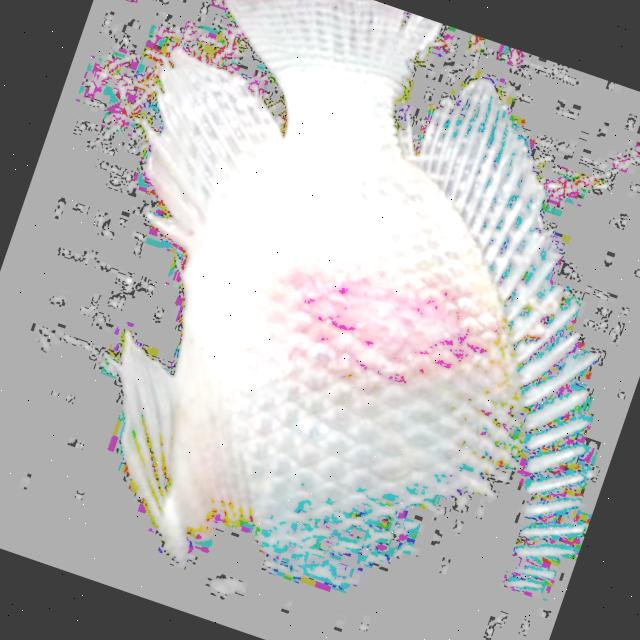Tilapia Lake Virus -TiLV-: (117, 0, 595, 635), (118, 0, 596, 633)
